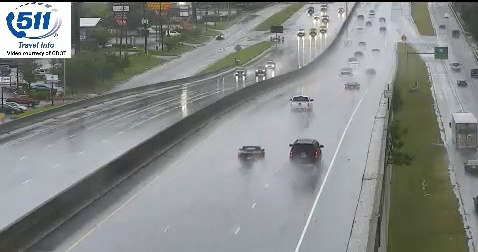car: (289, 139, 321, 164), (237, 146, 265, 161), (290, 97, 313, 111)
